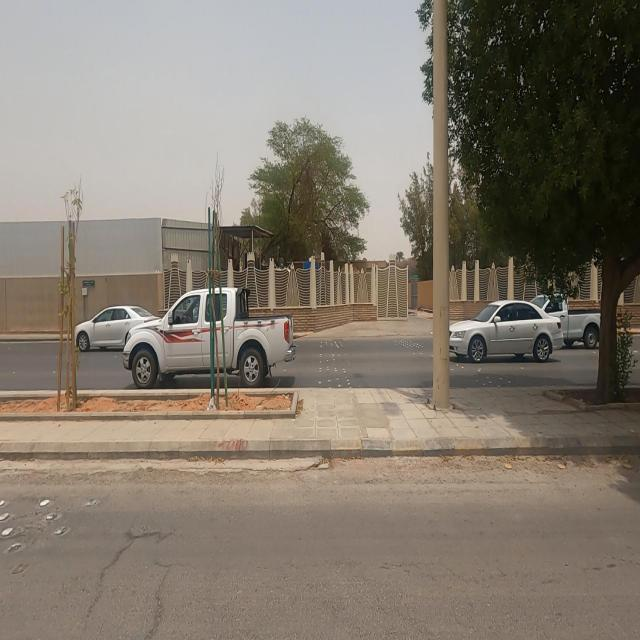debris: (184, 366, 234, 453)
